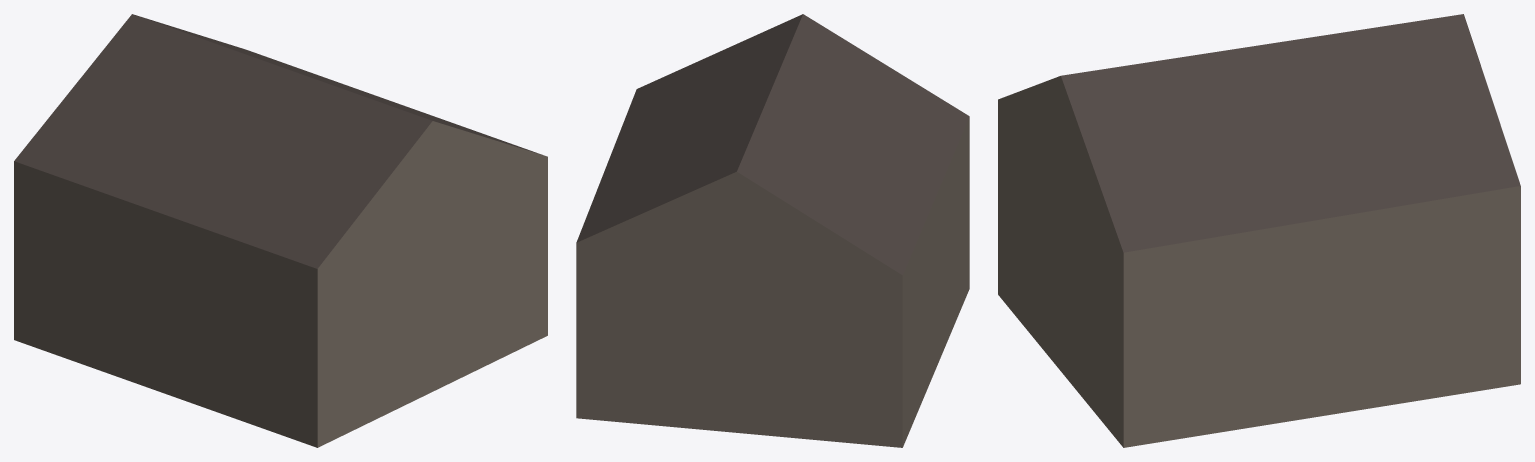
3 views of the same model, side by side, from view 1: azimuth 30°, elevation 25°; view 2: azimuth 150°, elevation 25°; view 3: azimuth 270°, elevation 25° (orthographic). The views are drawn at different scales.
Visible parts, largest first — view 1: HP-w776801037; view 2: HP-w776801037; view 3: HP-w776801037.
Boxes of the visible parts, x1,y1,x2,y2 form: HP-w776801037: (14,14,547,447); HP-w776801037: (576,14,969,447); HP-w776801037: (998,14,1520,447).
Size of the model in its own units: 14.21 by 9.08 by 14.56.
